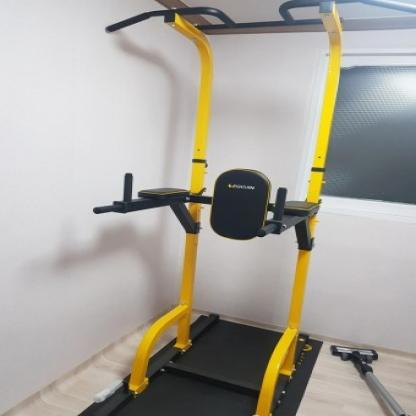chinning dipping: (106, 0, 416, 416)
